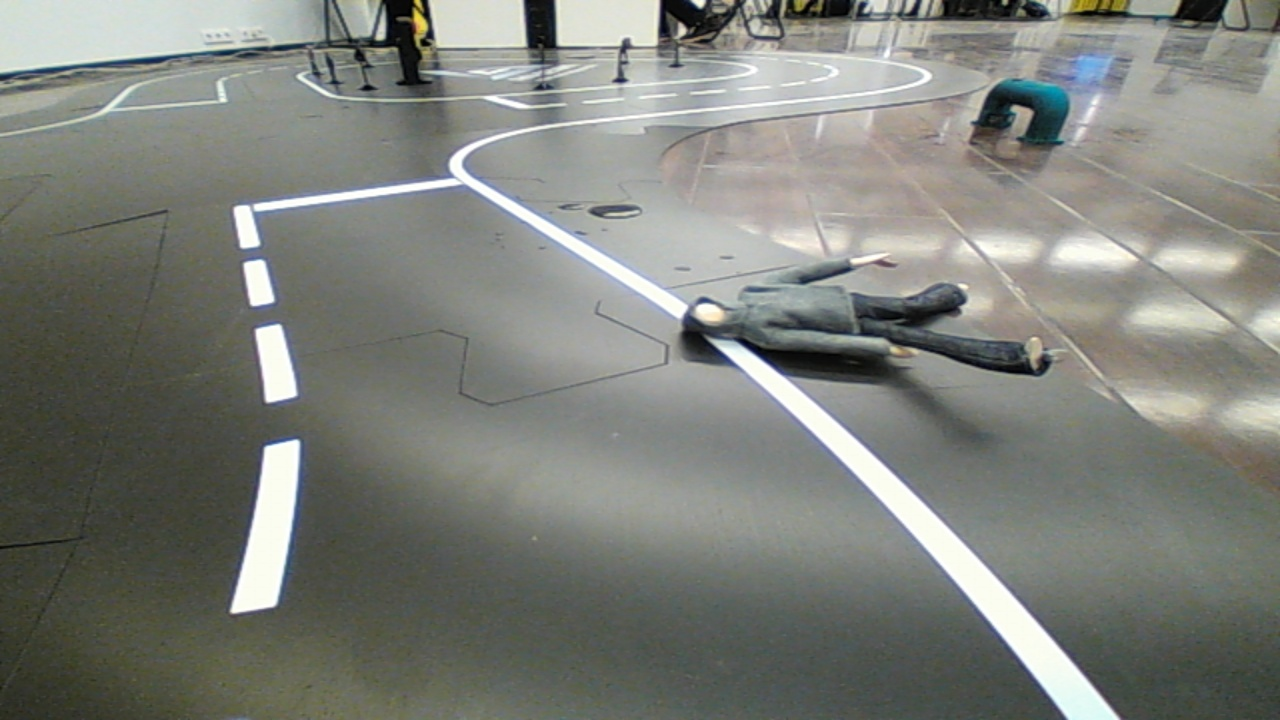Road works: (658, 250, 1068, 386)
